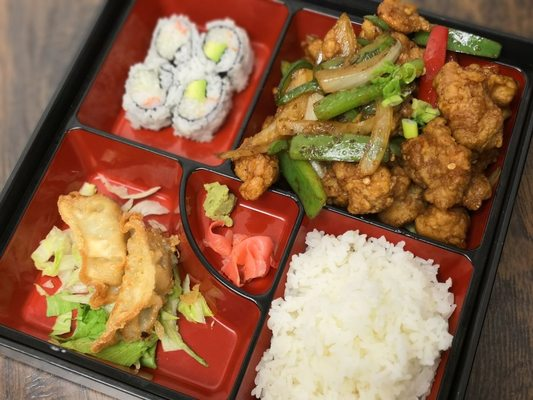sushi: (0, 89, 304, 400), (242, 207, 474, 400), (76, 0, 291, 169), (179, 164, 304, 306)
